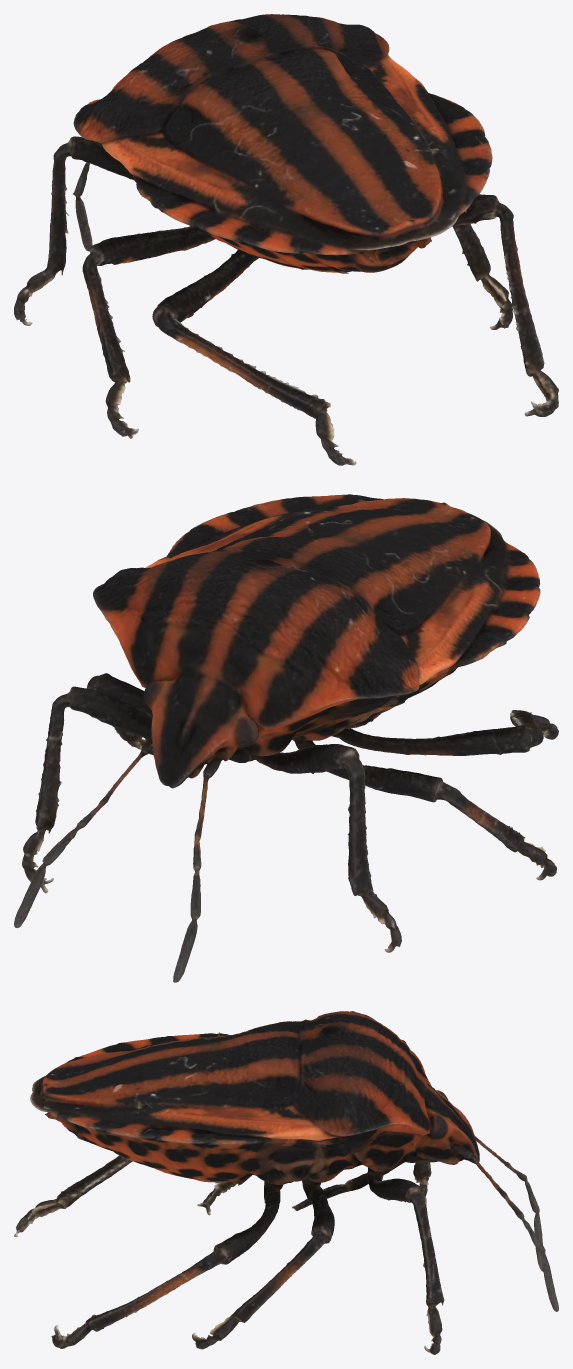
Rendered from bug-model.glb.
3 views of the same model, one above another, from view 1: azimuth 30°, elevation 25°; view 2: azimuth 150°, elevation 25°; view 3: azimuth 270°, elevation 25° (orthographic). The views are drawn at different scales.
Visible parts, largest first — view 1: Object_2; view 2: Object_2; view 3: Object_2.
Boxes of the visible parts, x1=… form: Object_2: x1=14, y1=14, x2=558, y2=465; Object_2: x1=14, y1=494, x2=558, y2=982; Object_2: x1=14, y1=1011, x2=558, y2=1354.
Bounding box in the file's own units: 1.23 × 0.9034 × 1.68.
1 material, 1 textured.
